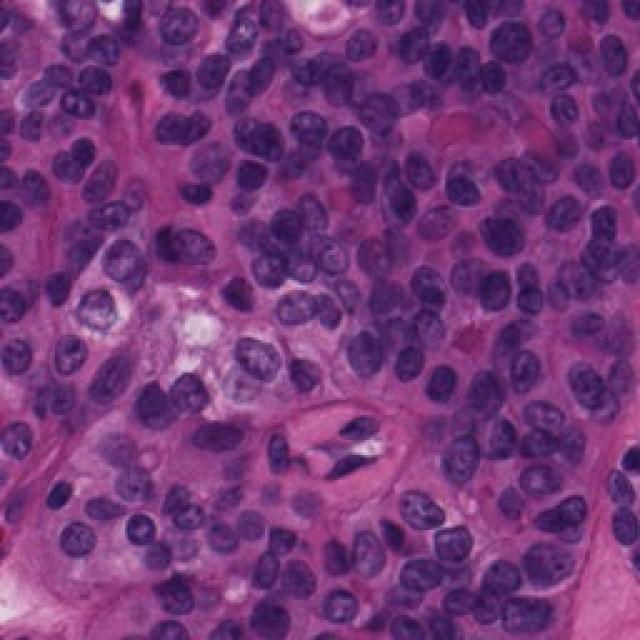abnormal: (182, 114, 258, 220), (386, 462, 458, 551), (126, 362, 198, 450), (322, 512, 397, 596), (214, 320, 284, 403), (60, 272, 136, 347), (49, 135, 118, 215), (514, 527, 589, 598), (310, 220, 375, 301), (36, 501, 103, 579), (222, 312, 279, 392), (133, 0, 216, 53), (406, 543, 469, 606), (268, 274, 318, 348), (514, 385, 564, 454), (481, 160, 533, 219)
